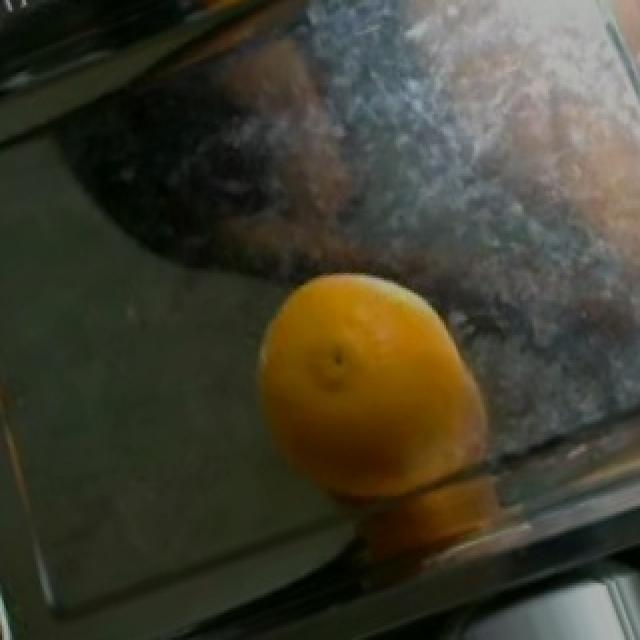Fruit: (226, 246, 510, 528), (592, 0, 640, 134)
